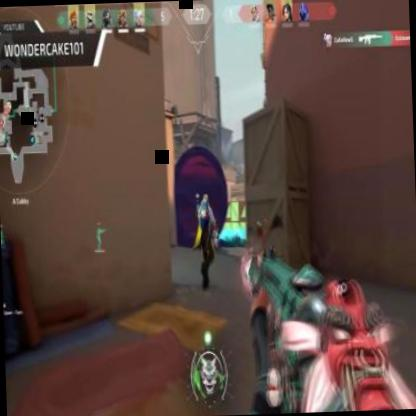enemy: (194, 191, 218, 294)
enemy_head: (201, 194, 209, 208)
